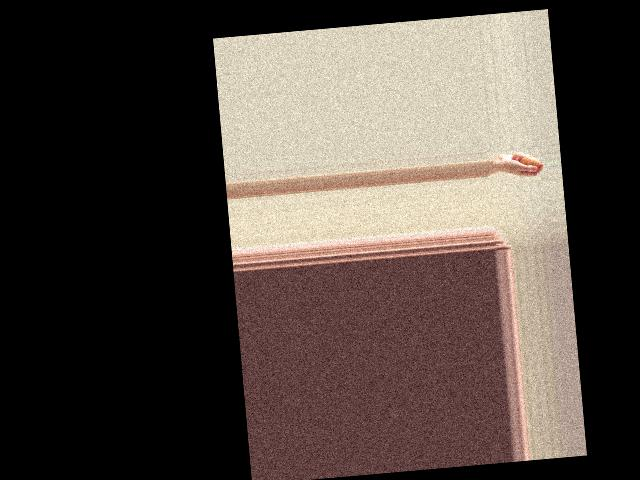egg: (519, 154, 540, 171)
